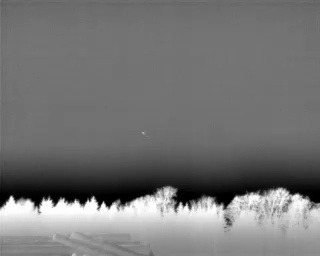BIRD: (140, 129, 147, 138)
